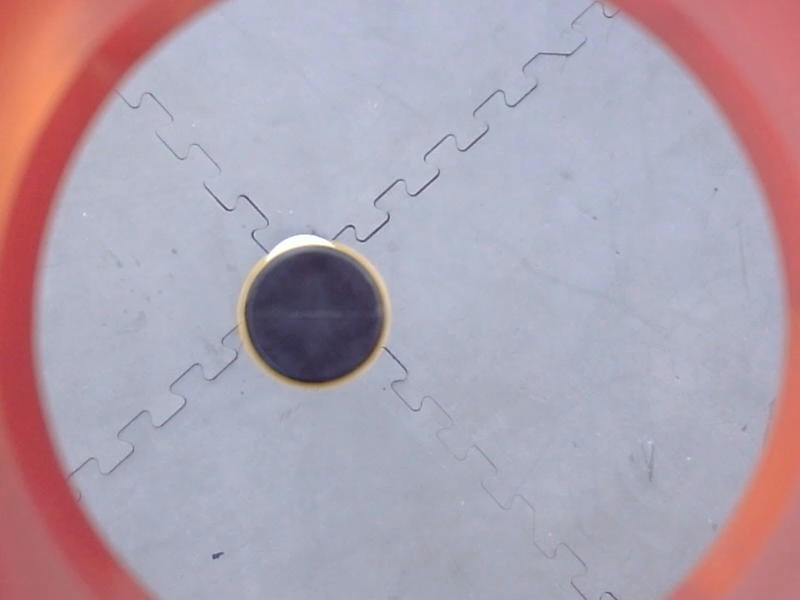tip: (229, 236, 398, 396)
